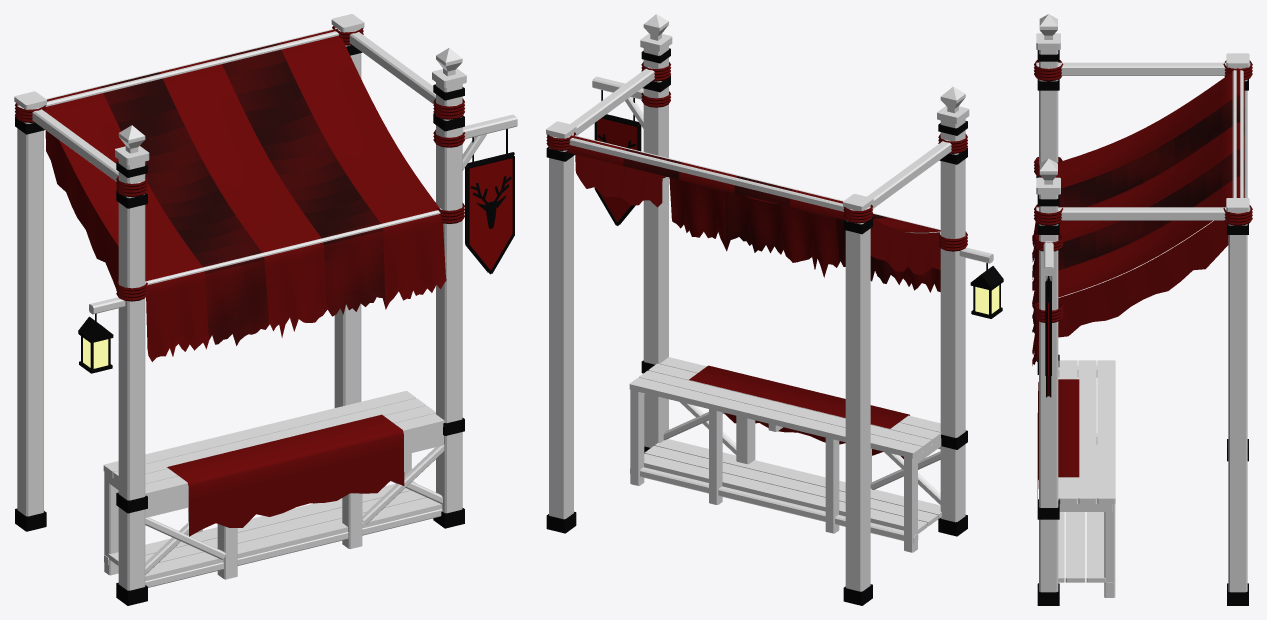
File: SilverbrookMarketStall.fbx
The picture shows the model from 3 angles, left to right: view 1: azimuth 30°, elevation 25°; view 2: azimuth 150°, elevation 25°; view 3: azimuth 270°, elevation 25°; orthographic projection. The views are drawn at different scales.
Parts seen in each view (by area): view 1: SM_SBMarketStall_Cloth, SM_SBMarketStall_Timber, SM_SBMarketStall_Details; view 2: SM_SBMarketStall_Timber, SM_SBMarketStall_Cloth, SM_SBMarketStall_Details; view 3: SM_SBMarketStall_Timber, SM_SBMarketStall_Cloth, SM_SBMarketStall_Details.
Boxes of the visible parts, x1,y1,x2,y2 form: SM_SBMarketStall_Cloth: (45, 29, 446, 536); SM_SBMarketStall_Timber: (14, 14, 517, 590); SM_SBMarketStall_Details: (15, 26, 514, 605); SM_SBMarketStall_Timber: (546, 14, 993, 591); SM_SBMarketStall_Cloth: (567, 135, 940, 458); SM_SBMarketStall_Details: (546, 48, 1003, 605); SM_SBMarketStall_Timber: (1036, 14, 1250, 597); SM_SBMarketStall_Cloth: (1032, 68, 1244, 498); SM_SBMarketStall_Details: (1034, 50, 1252, 605).
Size of the model in its own units: 380 by 400 by 181.
